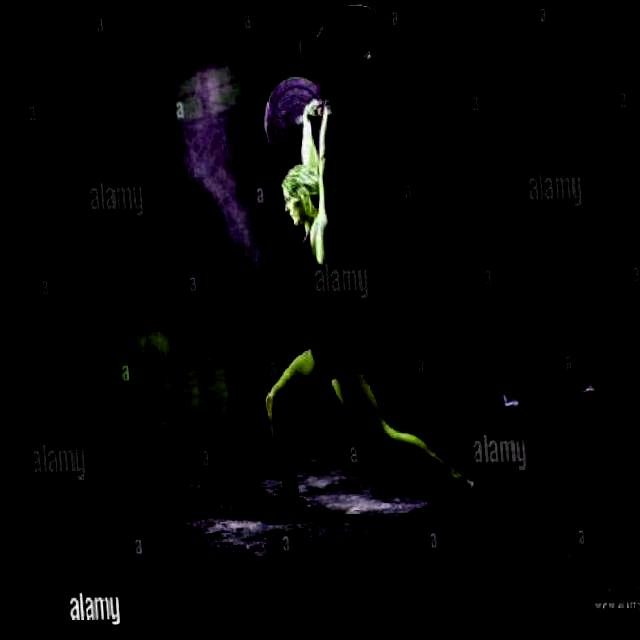barbell: (306, 3, 414, 128)
